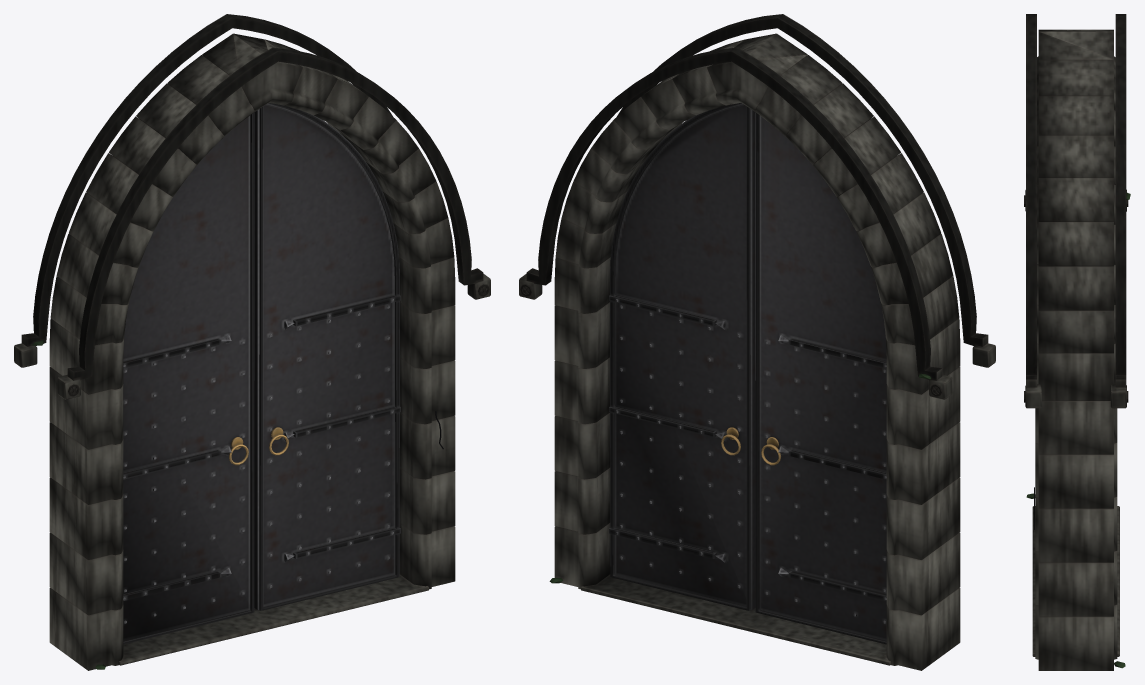
The model's file is GothicDoubleDoor.fbx.
The picture shows the model from 3 angles, left to right: view 1: azimuth 30°, elevation 25°; view 2: azimuth 150°, elevation 25°; view 3: azimuth 270°, elevation 25°; orthographic projection. The views are drawn at different scales.
Parts seen in each view (by area): view 1: GothicDoubleDoor_Main, GothicDoubleDoor_Leaf1, GothicDoubleDoor_Leaf0; view 2: GothicDoubleDoor_Main, GothicDoubleDoor_Leaf1, GothicDoubleDoor_Leaf0; view 3: GothicDoubleDoor_Main.
Part boxes in pixels (x1=…): GothicDoubleDoor_Main: x1=14, y1=14, x2=490, y2=670; GothicDoubleDoor_Leaf1: x1=229, y1=103, x2=400, y2=610; GothicDoubleDoor_Leaf0: x1=123, y1=113, x2=288, y2=644; GothicDoubleDoor_Main: x1=519, y1=14, x2=995, y2=670; GothicDoubleDoor_Leaf1: x1=609, y1=103, x2=780, y2=610; GothicDoubleDoor_Leaf0: x1=721, y1=113, x2=886, y2=644; GothicDoubleDoor_Main: x1=1024, y1=14, x2=1130, y2=670.
Bounding box in the file's own units: 882 × 1145 × 195.
